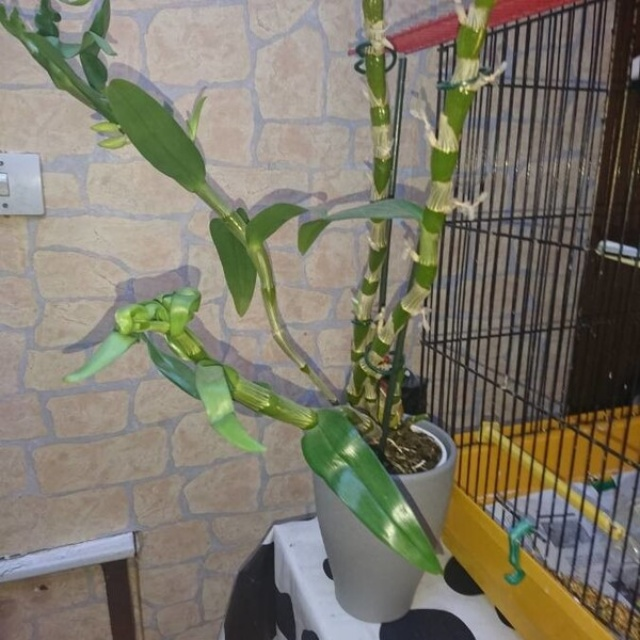obstacle: (100, 12, 448, 605)
